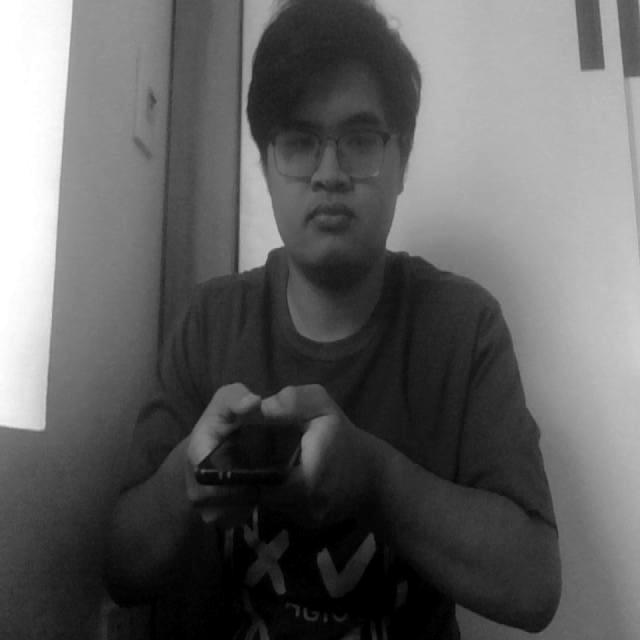phone: (189, 378, 328, 512)
